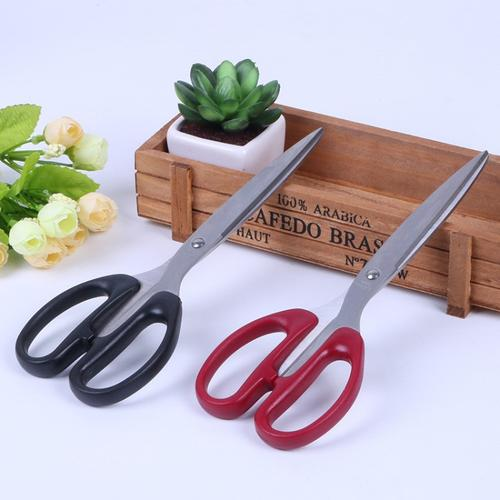scissor: (192, 148, 497, 452), (17, 124, 322, 408)
